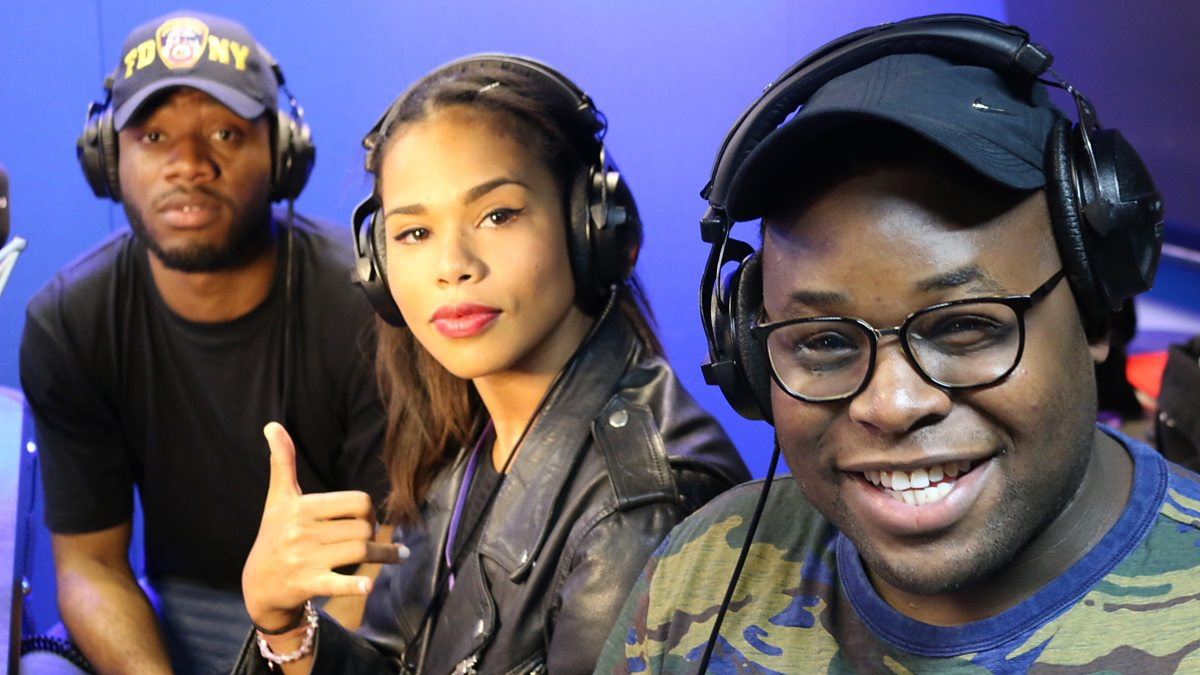bad: (718, 204, 1103, 590), (366, 180, 551, 366), (115, 98, 270, 253)
